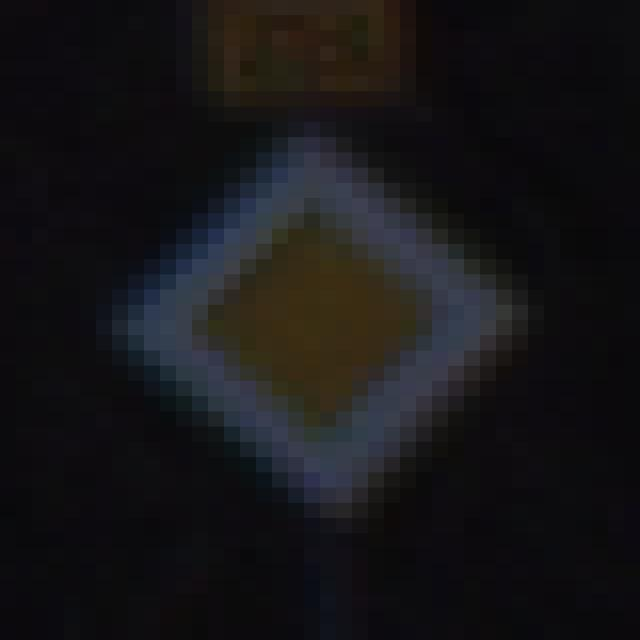Main Road: (81, 92, 561, 565)
